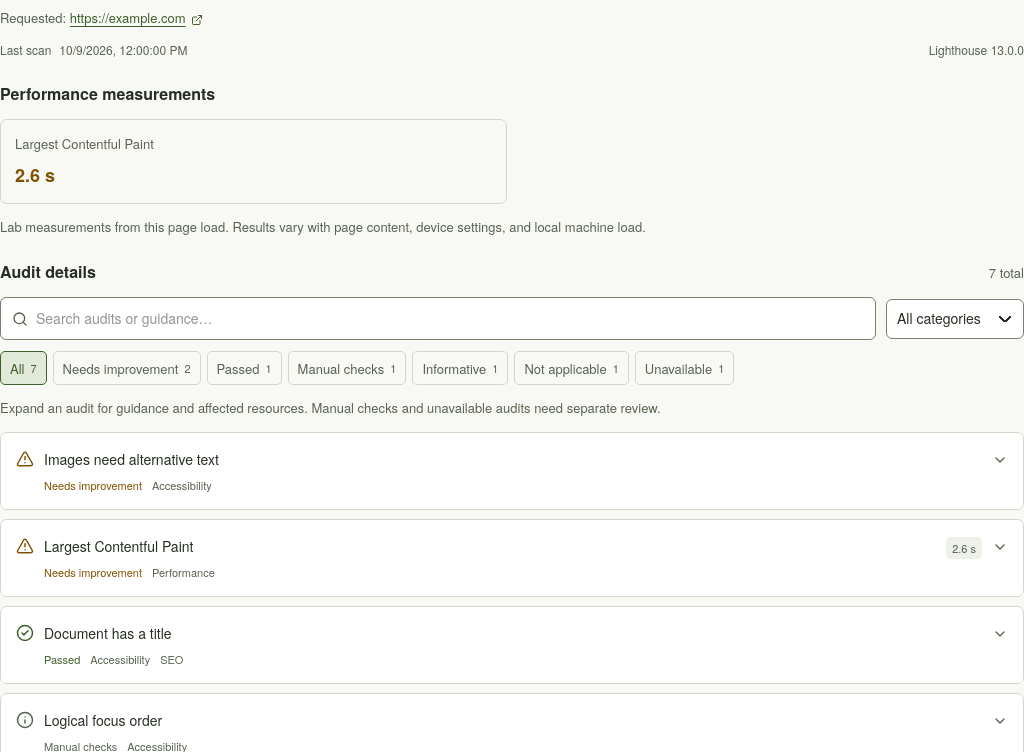
Lighthouse analysis › separates improvements, passed, manual, informational, inapplicable, and unavailable audits
(page scrolled)
Expected: the button "Needs improvement 2" is shown, [53,351,200,385]
Expected: the button "Passed 1" is shown, [206,351,282,385]
Step 1. Click the button "Unavailable 1" → click(685, 368), box [635,351,734,385]
(page scrolled)
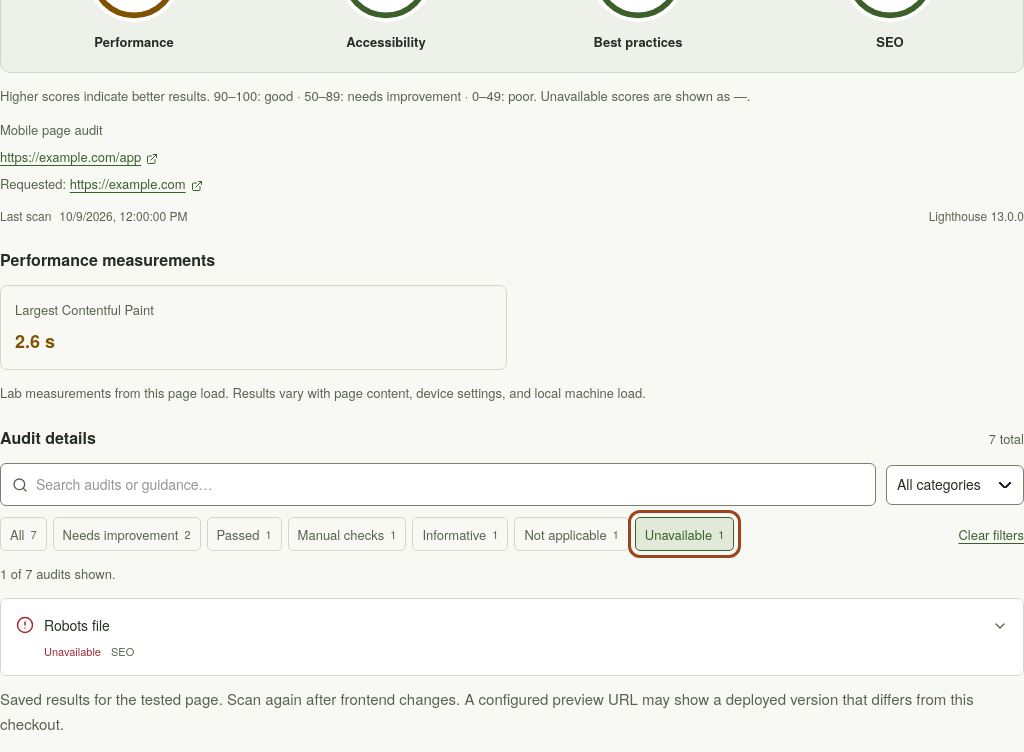
Expected: the text "Robots file" is shown, [44,615,110,635]
Result: the text "1 of 7 audits shown." is shown at [0,564,116,583]
Result: the heading "Document has a title" is gone
Step 2. Click the button "Needs improvement 2" → click(127, 534), box [53,517,200,551]
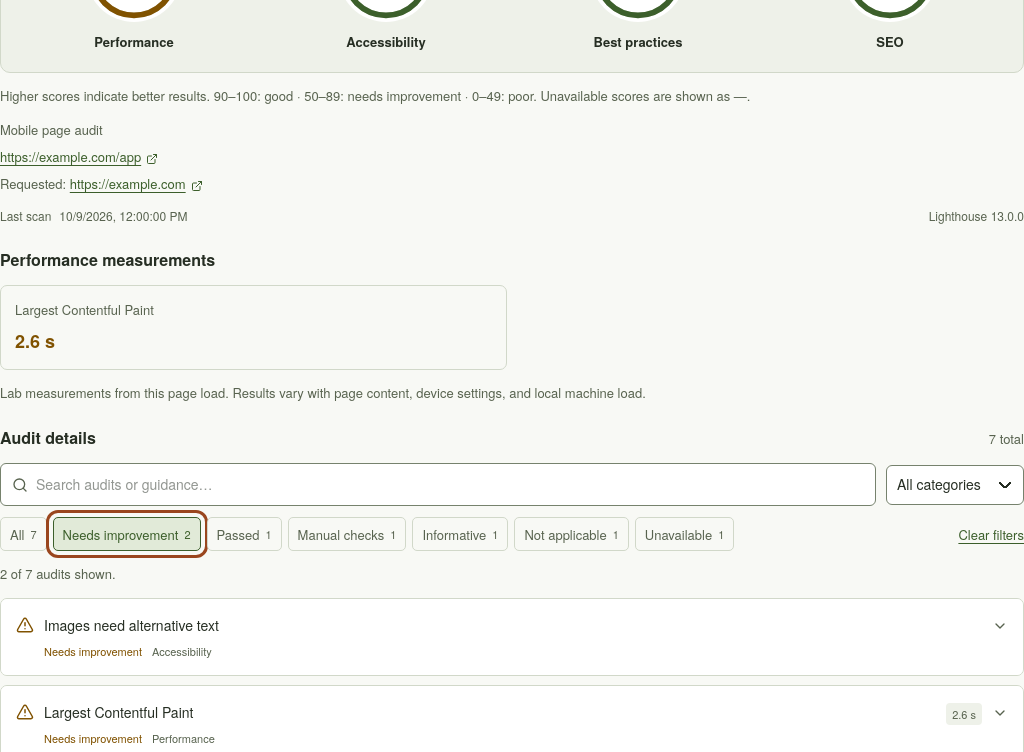
Step 3. Select "Accessibility" in the dropdown named "Audit category" → (955, 485), box [886,465,1023,505]
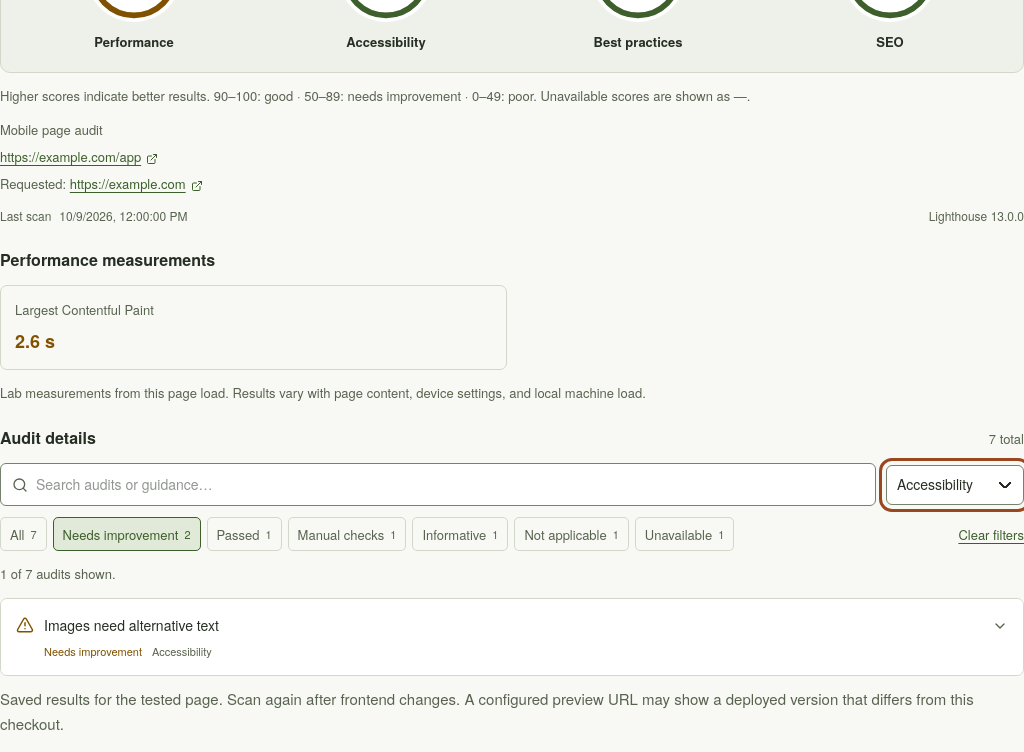
Result: the text "Images need alternative text" is shown at [44,615,219,635]
Result: the text "1 of 7 audits shown." is shown at [0,564,116,583]
Step 4. Type "nonexistent" into the search field named "Search Lighthouse audits" → (450, 485), box [36,464,864,505]
(page scrolled)
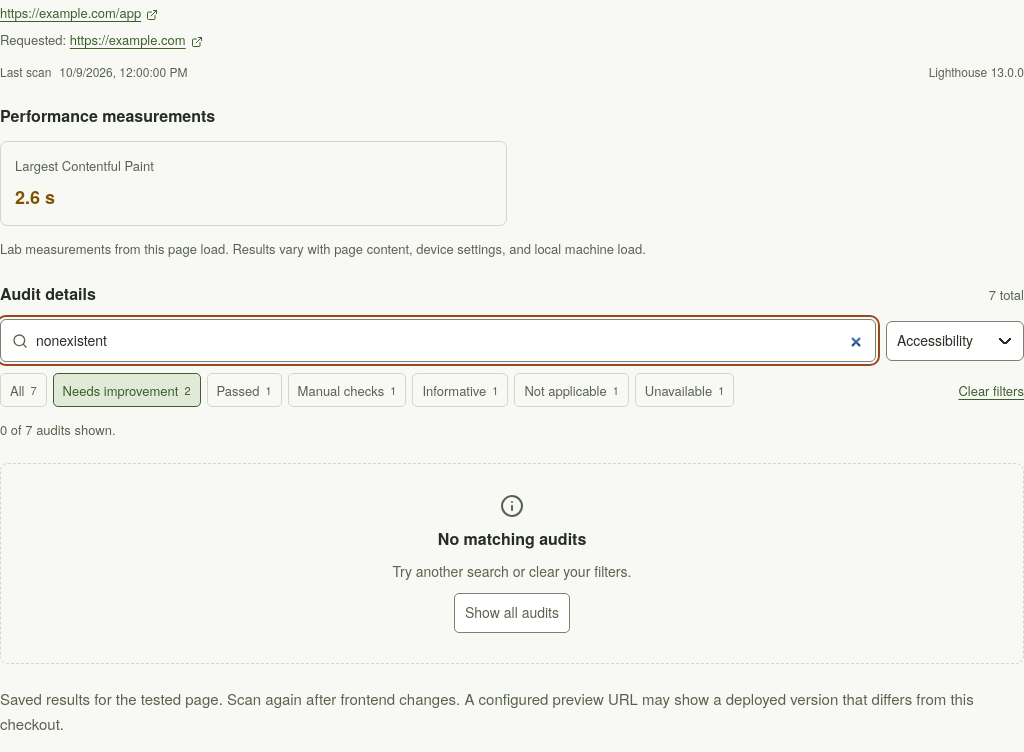
Result: the heading "No matching audits" is shown at [438,527,586,551]
Step 5. Click the button "Show all audits" → click(512, 613), box [454,593,570,633]
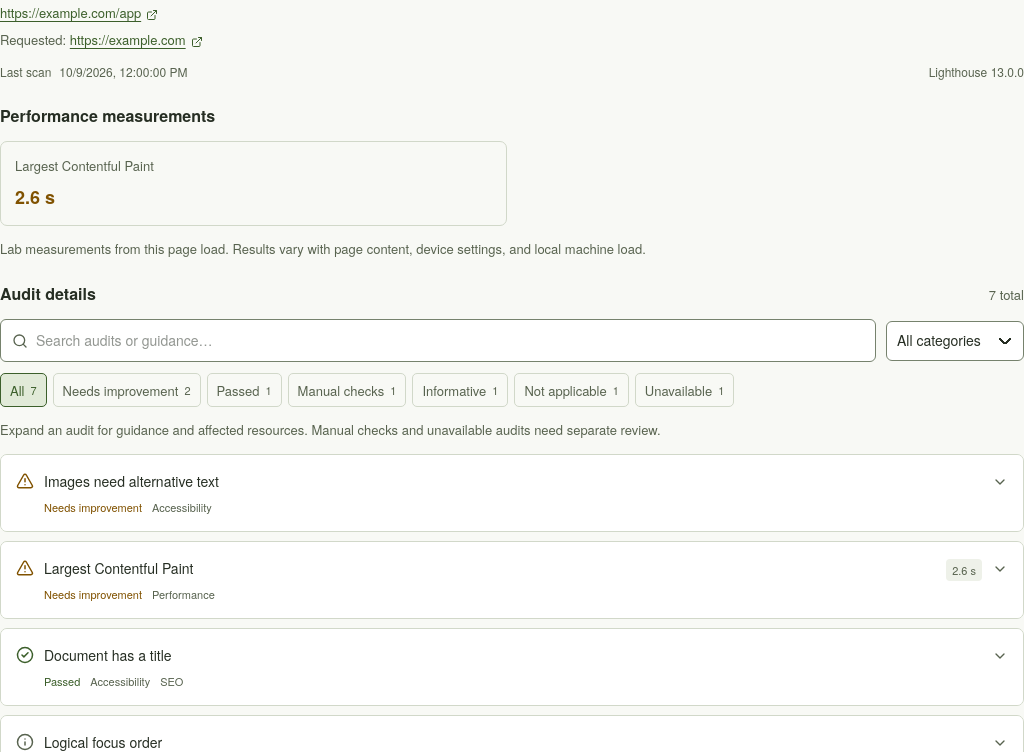
Result: the text "Logical focus order" is shown at [44,732,162,751]
